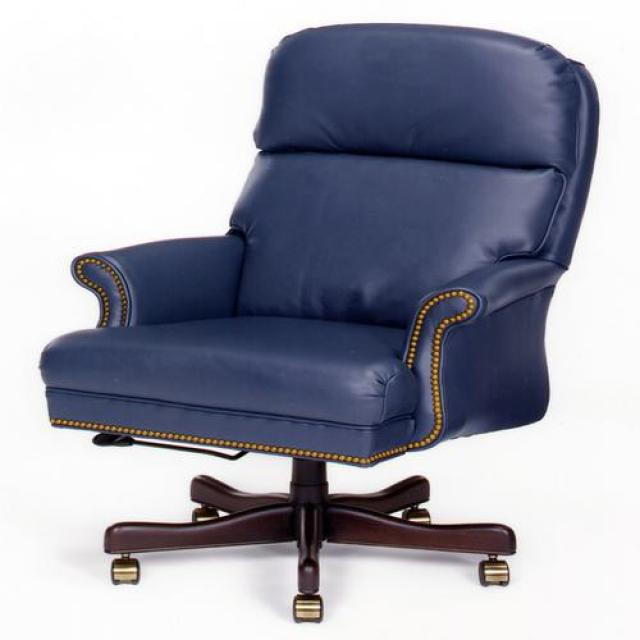swivelchair: (38, 23, 602, 621)
